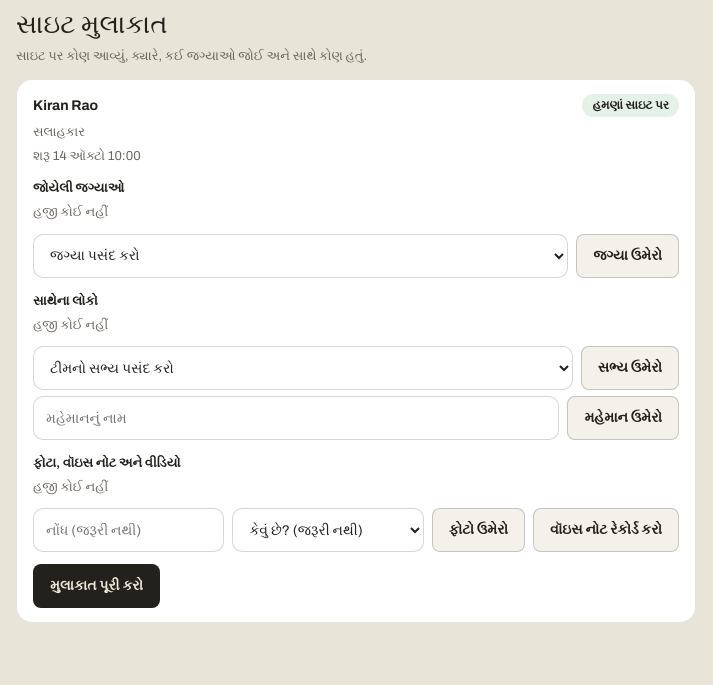
Test: Stage 1 voice notes on a visit › stops a recorder that writes a codec the server does not read, says so, and keeps nothing
The image size is (713, 685).
Click the button "વૉઇસ નોટ રેકોર્ડ કરો". click: (606, 530)
box: top-left (533, 508), bottom-right (679, 552)
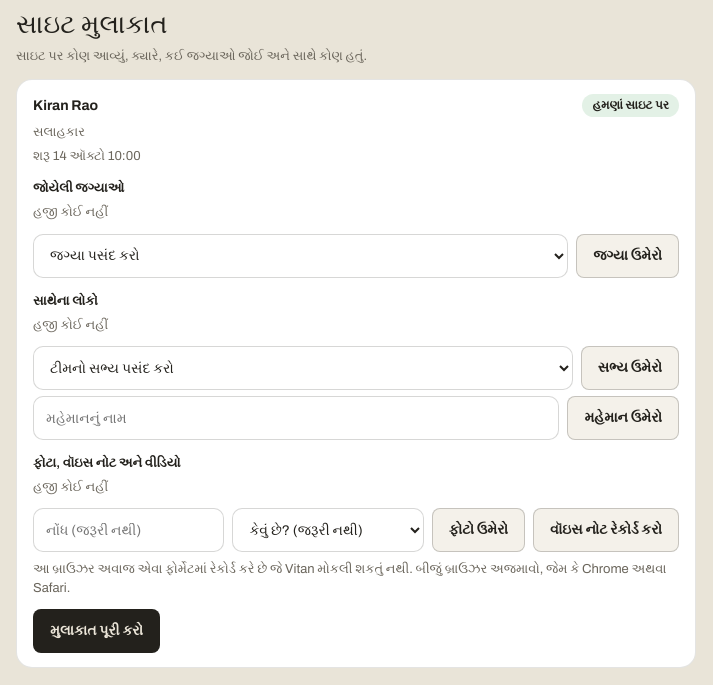
Expected: the message shows "આ બ્રાઉઝર અવાજ એવા ફોર્મેટમાં રેકોર્ડ કરે છે જે Vitan મોકલી શકતું નથી. બીજું બ્રાઉઝર અજમાવો, જેમ કે Chrome અથવા Safari.", top-left (33, 562), bottom-right (666, 595)
